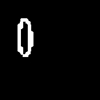chain: (18, 19, 32, 56)
